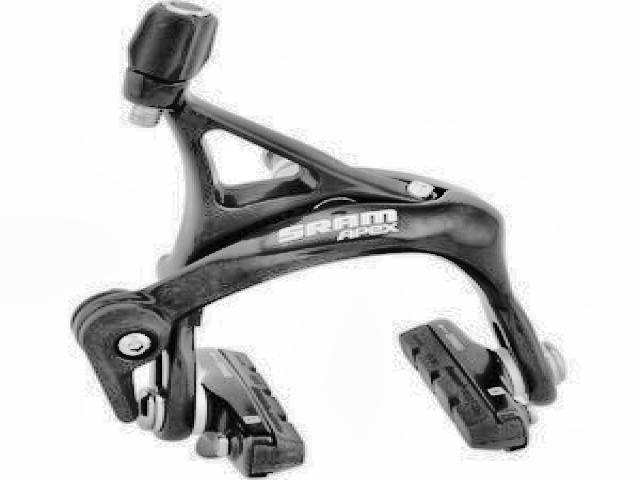rim_brake: (71, 0, 564, 480)
